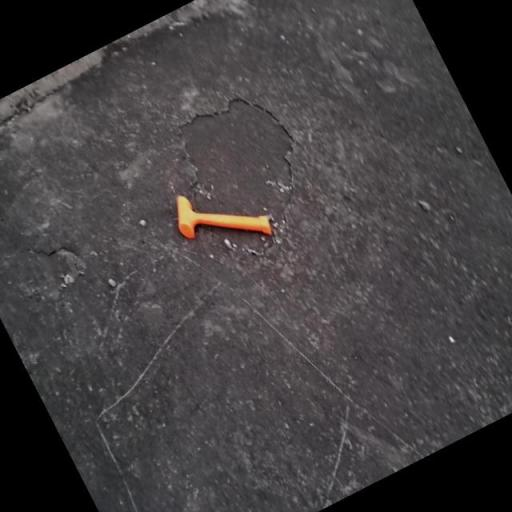mallet: (166, 165, 276, 271)
